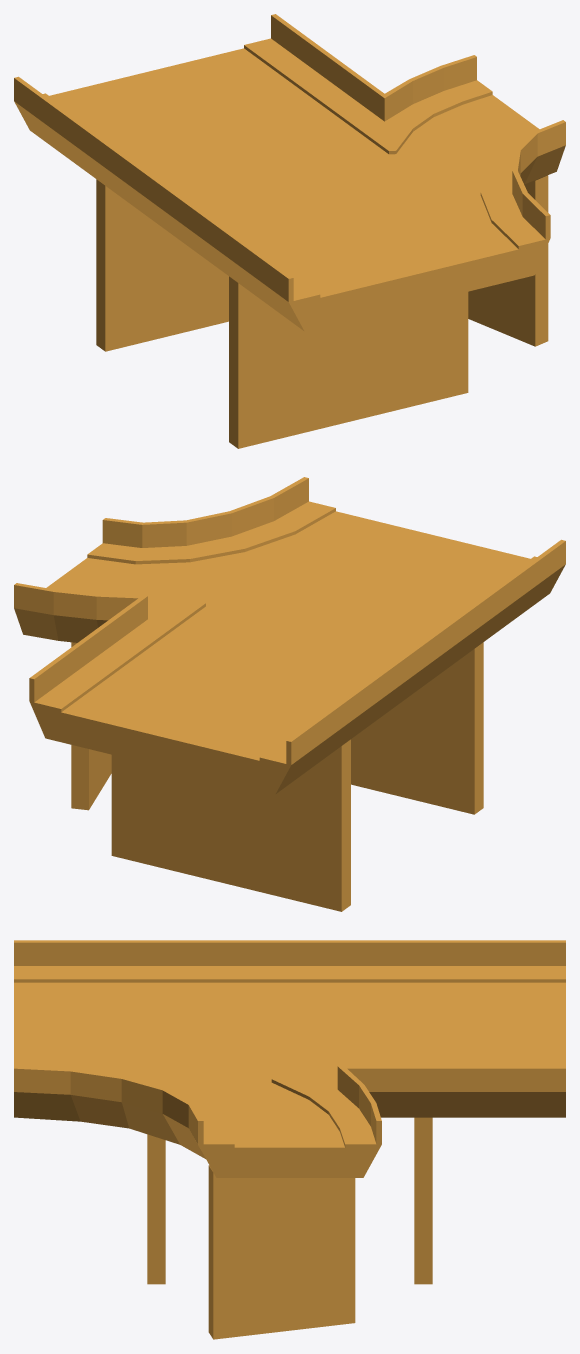
The model's file is bridge-mainroad-ramp.glb.
The picture shows the model from 3 angles, top to bottom: view 1: azimuth 30°, elevation 25°; view 2: azimuth 150°, elevation 25°; view 3: azimuth 270°, elevation 25°; orthographic projection.
Visible parts, largest first — view 1: bridge-mainroad-ramp; view 2: bridge-mainroad-ramp; view 3: bridge-mainroad-ramp.
Part boxes in pixels (x1,y1,x2,y2): bridge-mainroad-ramp: (14,14,565,448); bridge-mainroad-ramp: (14,477,565,911); bridge-mainroad-ramp: (14,940,565,1339).
Bounding box in the file's own units: 23.25 × 13.4 × 30.
